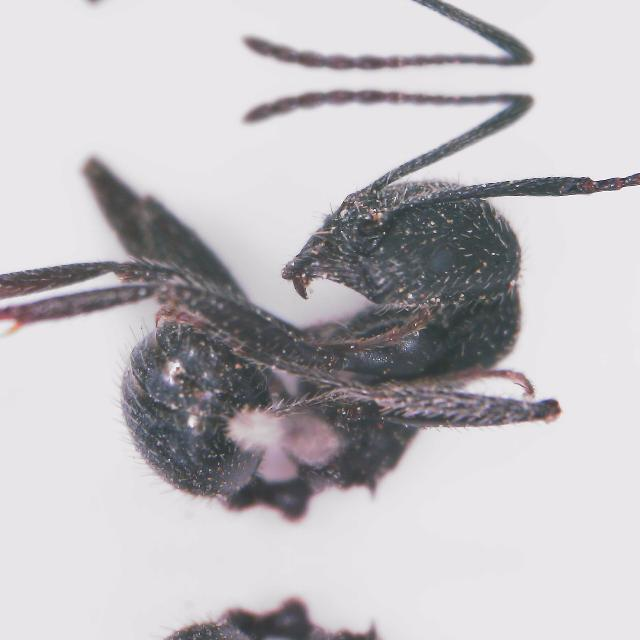Apheanogaster: (6, 95, 618, 559)
